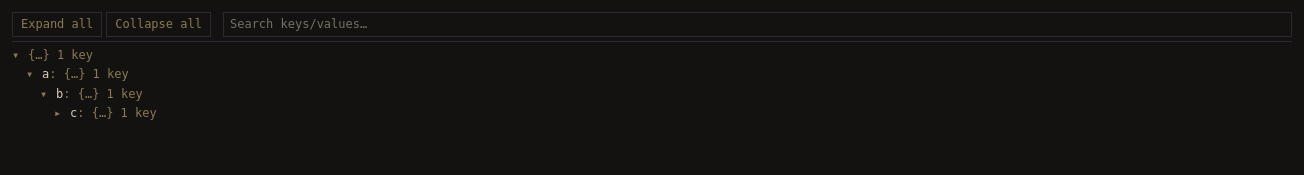
Test case: JsonTreeView toolbar — expand/collapse all › collapse all hides nested containers again
What coordinates should you click on to do the following:
click the button "Expand all"
I would click on:
 (57, 25)
Its box is 12,12 -> 102,37.
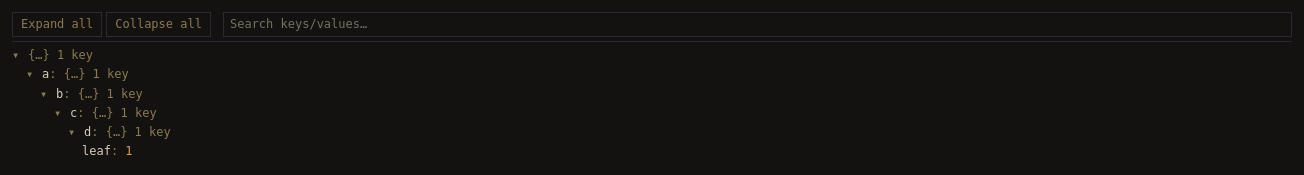
Expected: the text "leaf" is shown, 82,144 -> 111,158
What coordinates should you click on to do the following:
click the button "Collapse all"
I would click on:
 (159, 25)
Its box is 106,12 -> 211,37.
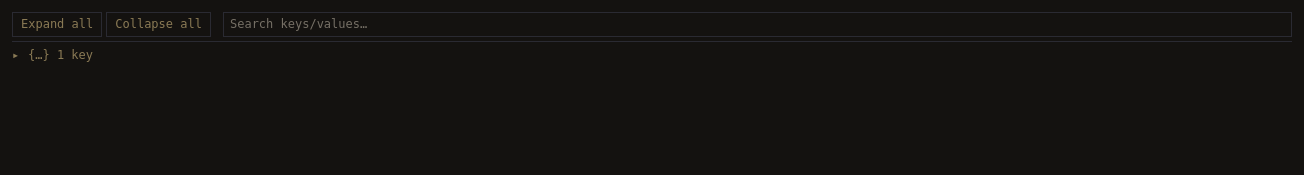
Expected: the text "leaf" is gone
